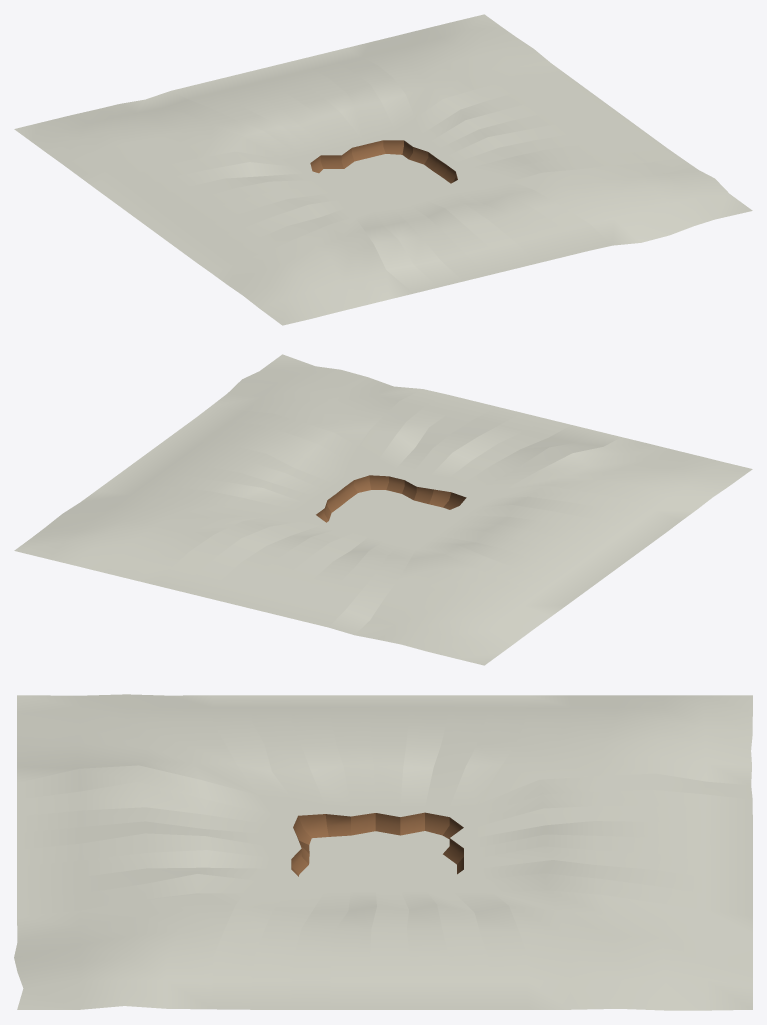
The model's file is Ring.fbx.
The picture shows the model from 3 angles, top to bottom: view 1: azimuth 30°, elevation 25°; view 2: azimuth 150°, elevation 25°; view 3: azimuth 270°, elevation 25°; orthographic projection. The views are drawn at different scales.
Visible parts, largest first — view 1: Ring; view 2: Ring; view 3: Ring.
Boxes of the visible parts, x1,y1,x2,y2 form: Ring: (14,14,752,325); Ring: (14,354,752,665); Ring: (14,694,752,1010).
Size of the model in its own units: 71.52 by 3.67 by 70.84.
